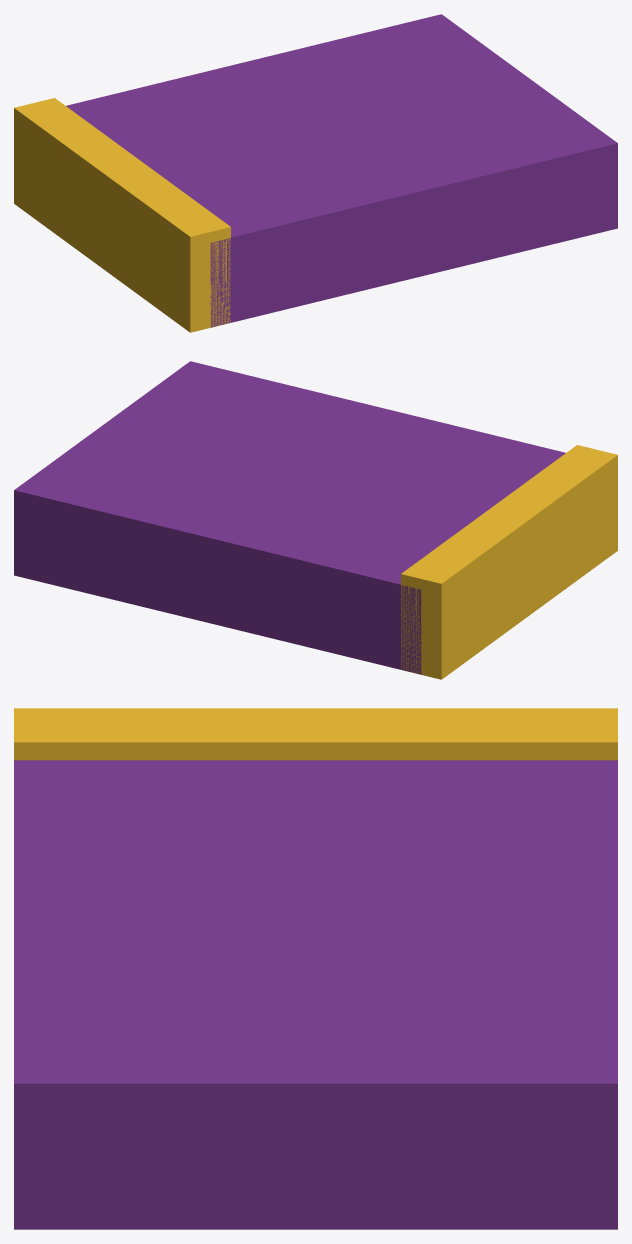
Rendered from spell_book.glb.
3 views of the same model, one above another, from view 1: azimuth 30°, elevation 25°; view 2: azimuth 150°, elevation 25°; view 3: azimuth 270°, elevation 25° (orthographic). The views are drawn at different scales.
Visible parts, largest first — view 1: spell_book; view 2: spell_book; view 3: spell_book.
Boxes of the visible parts, x1,y1,x2,y2 form: spell_book: (14, 14, 617, 332); spell_book: (14, 361, 617, 679); spell_book: (14, 708, 617, 1229).
Bounding box in the file's own units: 0.42 × 0.09 × 0.3.
